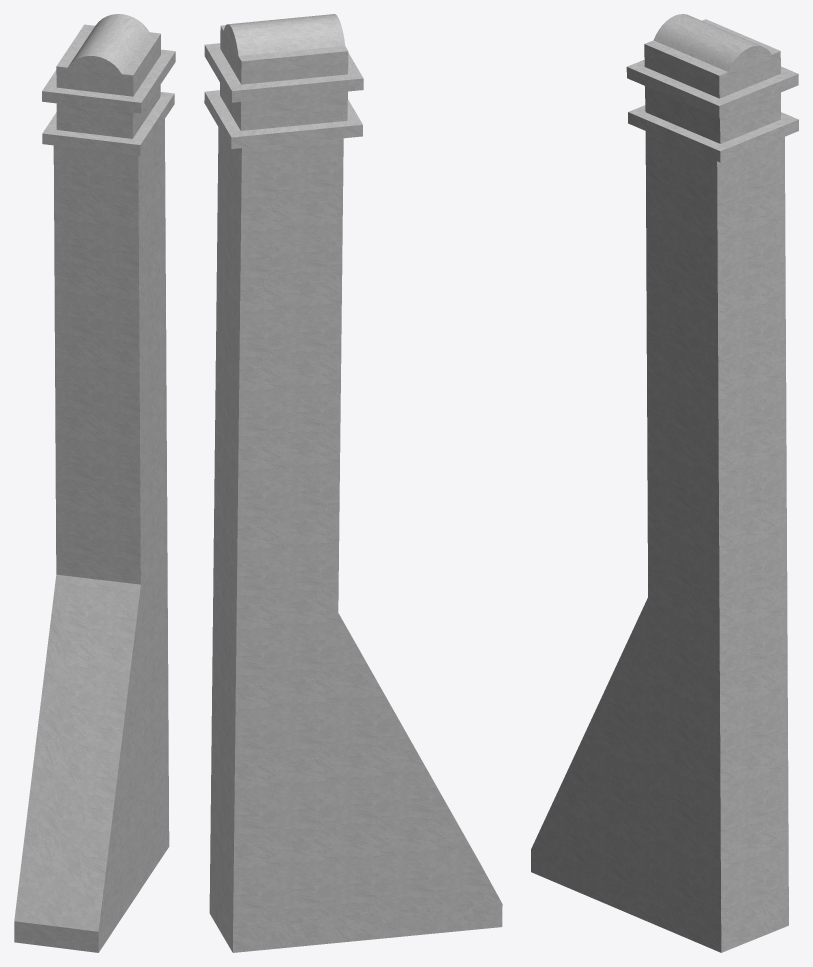
The model's file is komin.gltf.
The picture shows the model from 3 angles, left to right: view 1: azimuth 30°, elevation 25°; view 2: azimuth 150°, elevation 25°; view 3: azimuth 270°, elevation 25°; orthographic projection. The views are drawn at different scales.
Visible parts, largest first — view 1: root; view 2: root; view 3: root.
Part boxes in pixels (x1,y1,x2,y2): root: [14, 14, 175, 952]; root: [204, 14, 502, 952]; root: [531, 14, 798, 952].
Size of the model in its own units: 2.14 by 7.83 by 2.13.
1 material, 1 textured.
